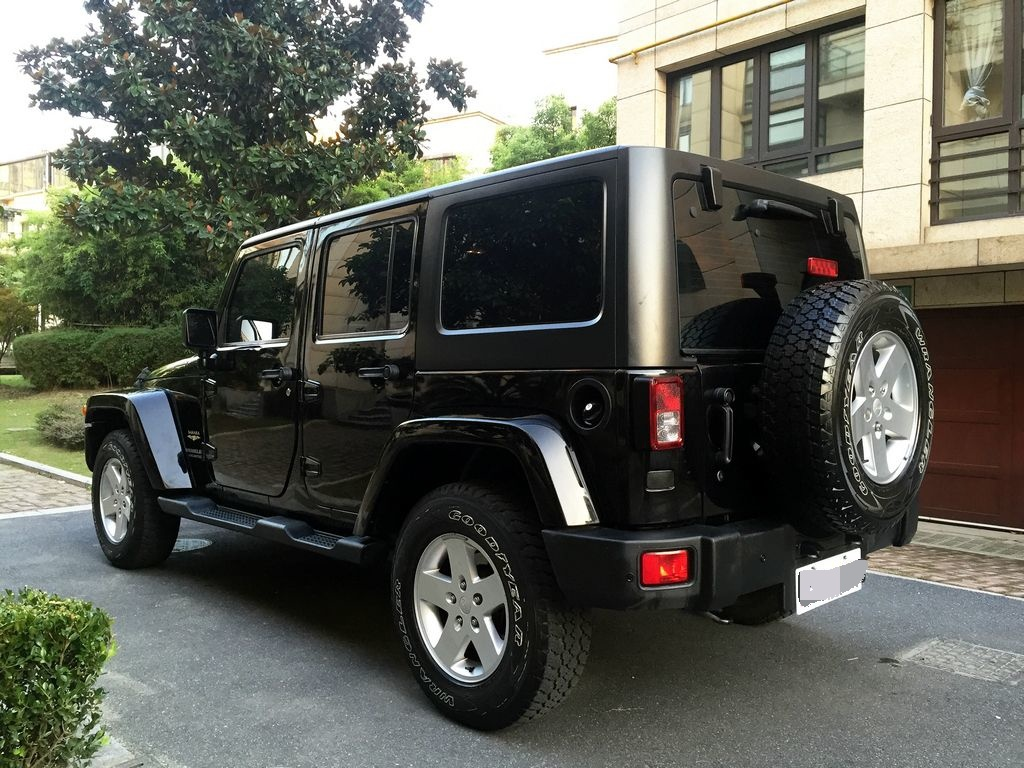jeep: (84, 153, 921, 742)
